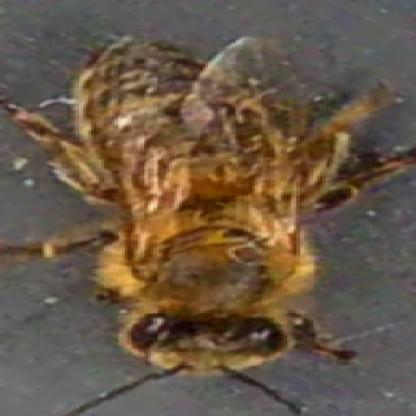bee: (60, 41, 333, 376)
